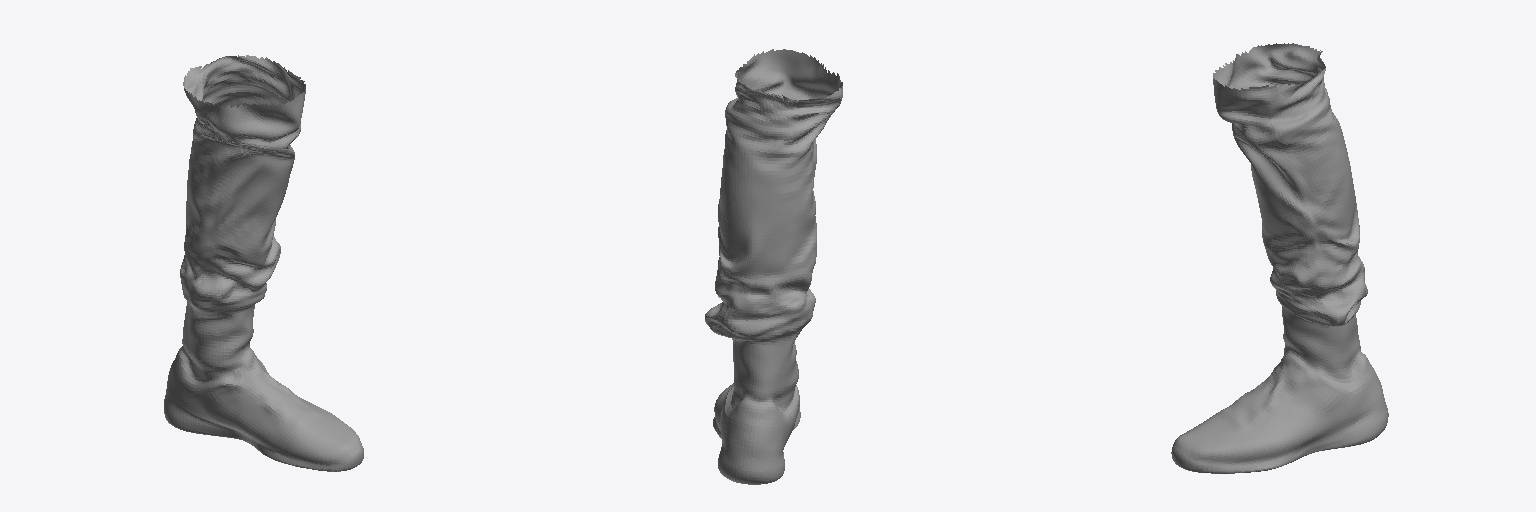
File: pieizq.obj
3 views of the same model, side by side, from view 1: azimuth 30°, elevation 25°; view 2: azimuth 150°, elevation 25°; view 3: azimuth 270°, elevation 25° (orthographic).
Parts seen in each view (by area): view 1: RUST_3d_Low.000; view 2: RUST_3d_Low.000; view 3: RUST_3d_Low.000.
Boxes of the visible parts, x1=… form: RUST_3d_Low.000: x1=164, y1=55, x2=363, y2=471; RUST_3d_Low.000: x1=705, y1=49, x2=842, y2=484; RUST_3d_Low.000: x1=1171, y1=43, x2=1388, y2=473.
Size of the model in its own units: 18.79 by 48.89 by 25.93.